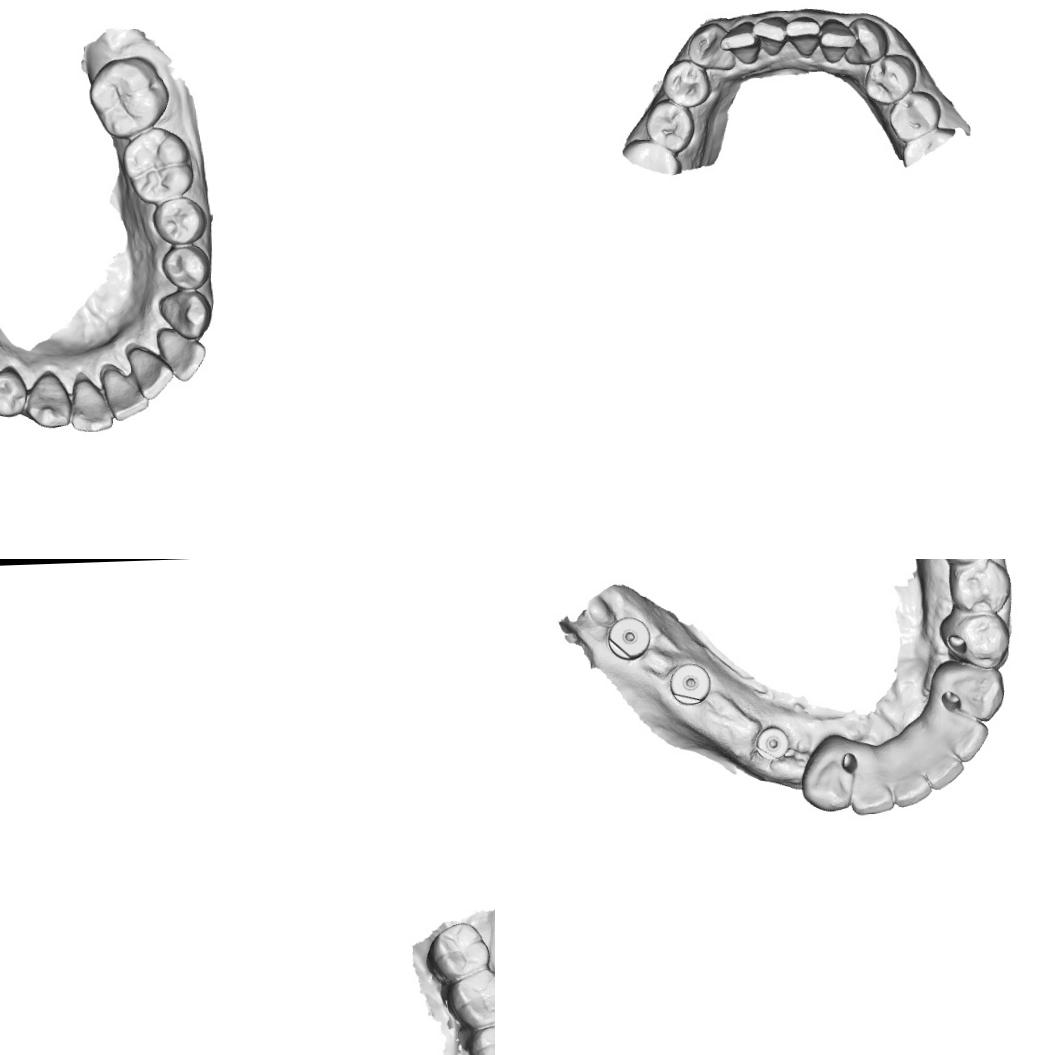canine: (922, 654, 1006, 722), (798, 729, 856, 814), (156, 286, 215, 341), (23, 368, 72, 431), (686, 20, 736, 72), (843, 15, 891, 66)
implant: (606, 609, 654, 671), (666, 654, 716, 709), (746, 723, 798, 765)
incisor: (928, 704, 992, 764), (848, 742, 896, 818), (916, 728, 966, 792), (154, 325, 208, 384), (99, 362, 150, 423), (889, 737, 932, 808), (126, 343, 176, 403), (68, 372, 114, 435), (816, 16, 858, 65), (718, 20, 762, 66), (784, 13, 822, 59), (752, 14, 790, 57)
molar: (86, 54, 170, 138), (119, 125, 195, 206), (426, 918, 492, 984), (451, 968, 495, 1029)
premolar: (936, 608, 1015, 672), (946, 562, 1014, 614), (643, 97, 697, 154), (150, 196, 209, 248), (886, 89, 942, 143), (862, 52, 918, 106), (660, 57, 712, 110), (160, 243, 213, 292), (0, 365, 28, 418), (470, 1020, 495, 1055)
